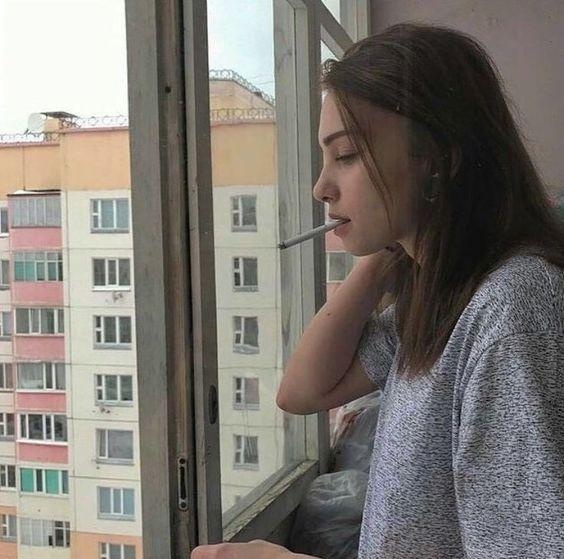cigarette: (277, 219, 348, 250)
